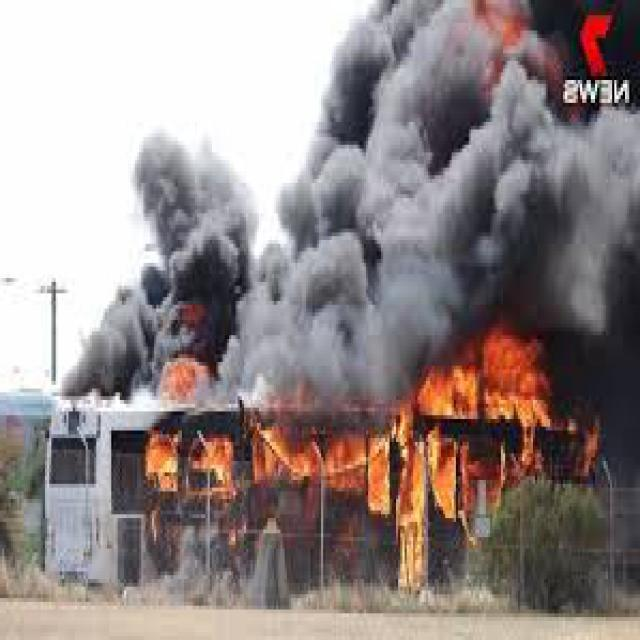Fire: (148, 406, 546, 526)
Smoke: (236, 125, 620, 388)
